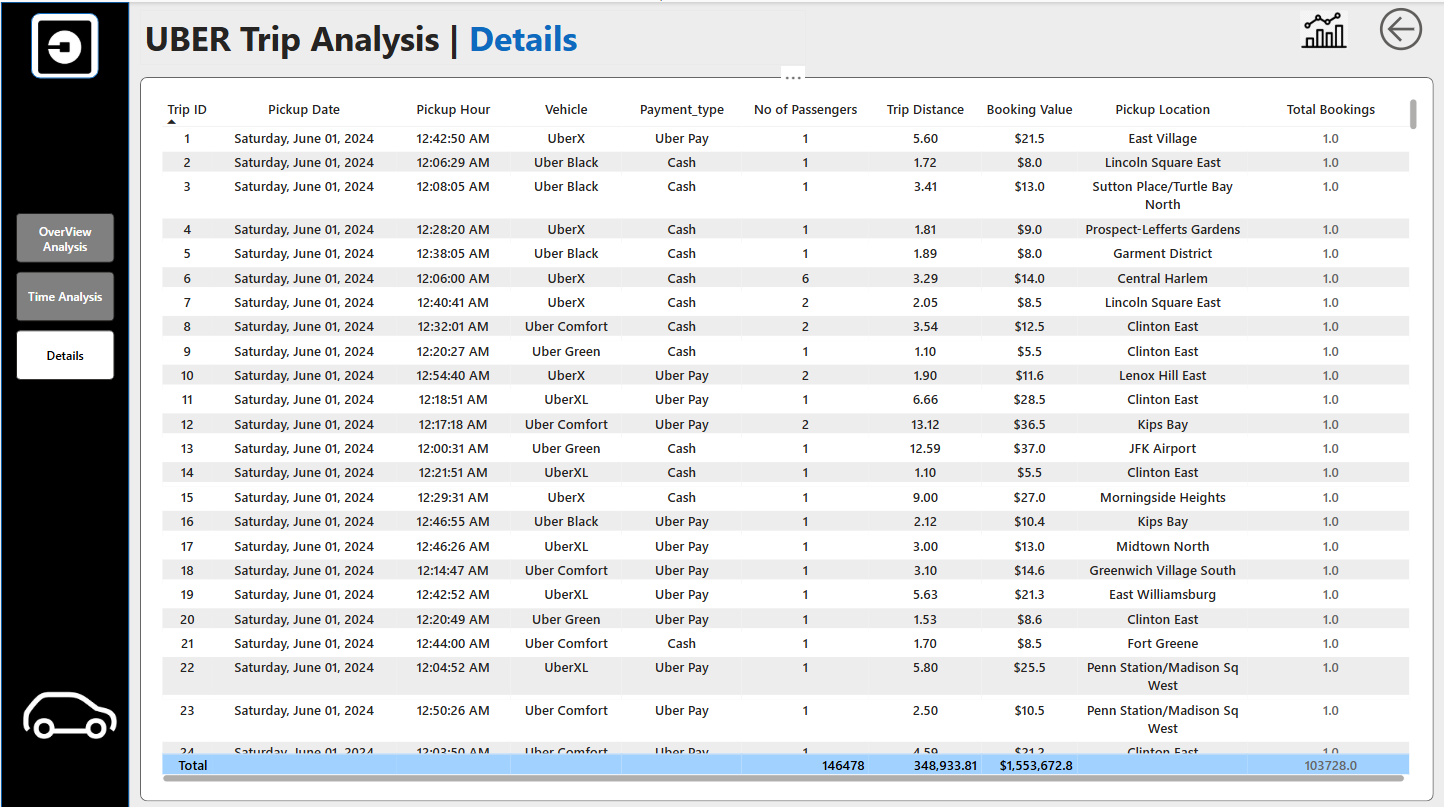

The page's visual inventory and layout, read from the dashboard file:
{"tool":"powerbi","page":{"name":"Details","canvas":[1600,900],"ordinal":2},"visuals":[{"type":"shape","box":[153.9,83.6,1433.9,802.8],"z":0},{"type":"shape","box":[0,0,142,899.7],"z":1000},{"type":"textbox","box":[154.4,8.5,738,60.8],"z":2000},{"type":"tableEx","fields":{"Values":["Trip Details.Trip ID","Trip Details.Pickup Date","Trip Details.Pickup Hour (HH MM SS)","Trip Details.Vehicle","Trip Details.Payment_type","Sum(Trip Details.passenger_count)","Trip Details.Total Trip Distance Measure","Trip Details.Total Booking Amount","Location Table.Location","Trip Details.Total Bookings"]},"box":[173,102.3,1401.7,767.8],"z":3000},{"type":"actionButton","box":[1522.1,0,65.4,60.3],"z":4000},{"type":"image","box":[1430.5,3.9,70.9,52.5],"z":5000},{"type":"shape","box":[33.5,12.3,75.1,72.5],"z":27000,"group":"g1"},{"type":"image","box":[11.2,15.5,119.4,69.2],"z":28000,"group":"g1"},{"type":"group","id":"g1","title":"Group 1","box":[11.2,12.3,119.4,72.5],"z":28001},{"type":"pageNavigator","box":[16.7,234.3,109.3,185.2],"z":28002},{"type":"image","box":[10,725.2,128.3,129.4],"z":28003}]}

Visuals, with their boxes on the page's 1600x900 design canvas (x1, y1, x2, y2). These are canvas units, not pixel positions in the 1444x807 screenshot, which may show the page scaled, cropped or inside an application window:
shape: l=154, t=84, r=1588, b=886
shape: l=0, t=0, r=142, b=900
textbox: l=154, t=8, r=892, b=69
tableEx - Trip Details.Trip ID x Trip Details.Pickup Date: l=173, t=102, r=1575, b=870
actionButton: l=1522, t=0, r=1588, b=60
image: l=1430, t=4, r=1501, b=56
shape: l=34, t=12, r=109, b=85
image: l=11, t=16, r=131, b=85
"Group 1" group: l=11, t=12, r=131, b=85
pageNavigator: l=17, t=234, r=126, b=420
image: l=10, t=725, r=138, b=855
